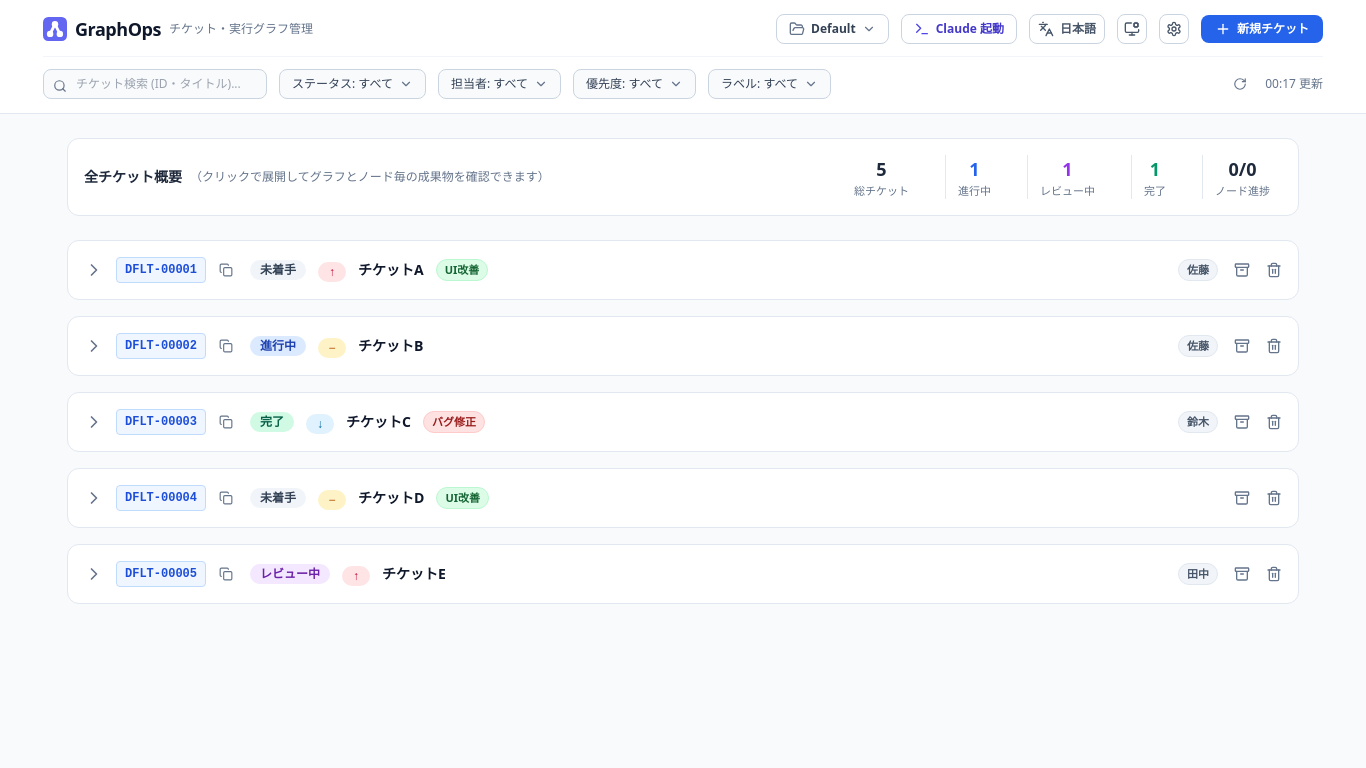
Scenario: App toolbar filters › the same control four times › gives the status filter the shared ARIA wiring
Expected: the text "DFLT-00001" is shown, left=116, top=257, right=206, bottom=283
What coordinates should you click on to do the following:
click the button "ステータス: すべて"
I would click on:
 (352, 84)
Its box is left=279, top=69, right=426, bottom=99.
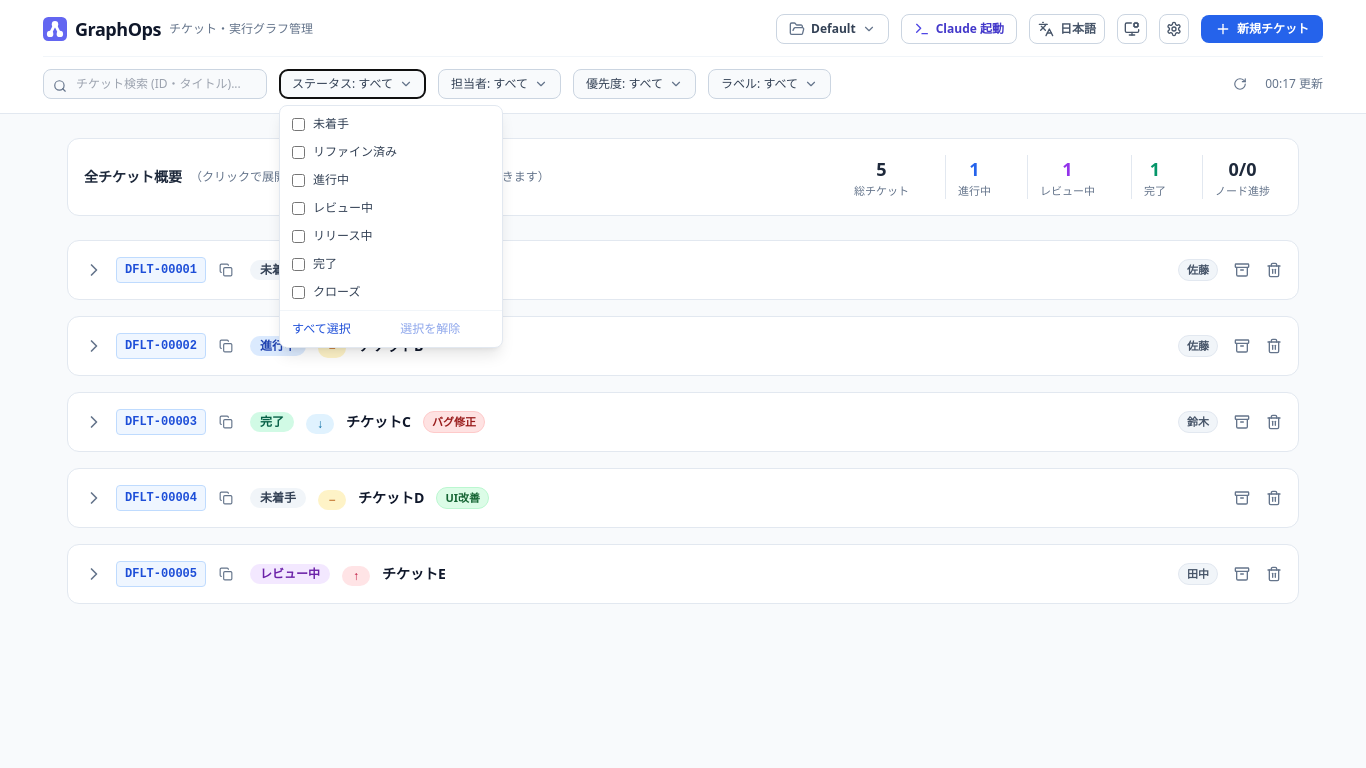
Now the element named "ステータスで絞り込む" is shown, box left=279, top=105, right=503, bottom=348
